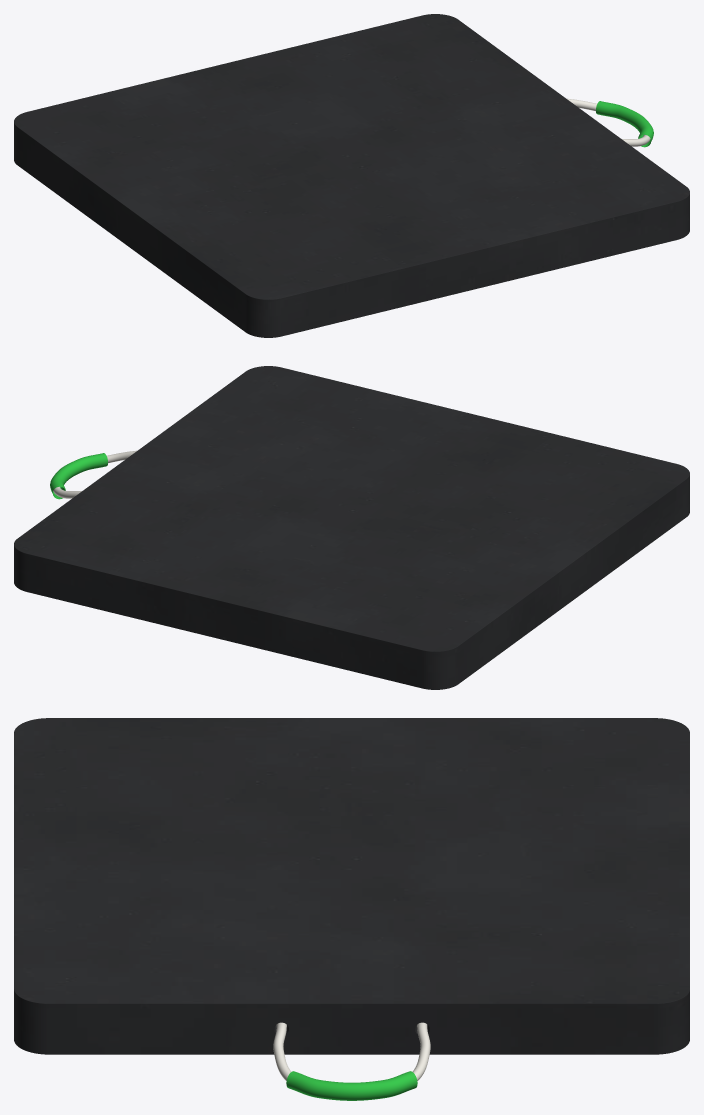
3 views of the same model, one above another, from view 1: azimuth 30°, elevation 25°; view 2: azimuth 150°, elevation 25°; view 3: azimuth 270°, elevation 25° (orthographic). The views are drawn at different scales.
Visible parts, largest first — view 1: plate, sleeve; view 2: plate, sleeve; view 3: plate, sleeve, rope.
Part boxes in pixels (box(x1,y1,x2,y2)): plate: box(14, 14, 689, 337); sleeve: box(596, 101, 653, 147); plate: box(14, 366, 689, 689); sleeve: box(50, 453, 107, 499); plate: box(14, 718, 689, 1054); sleeve: box(286, 1071, 417, 1100); rope: box(273, 1022, 430, 1080).
Size of the model in its own units: 0.7086 by 0.0536 by 0.6096.
Materials: 3 (1 with a texture image).
